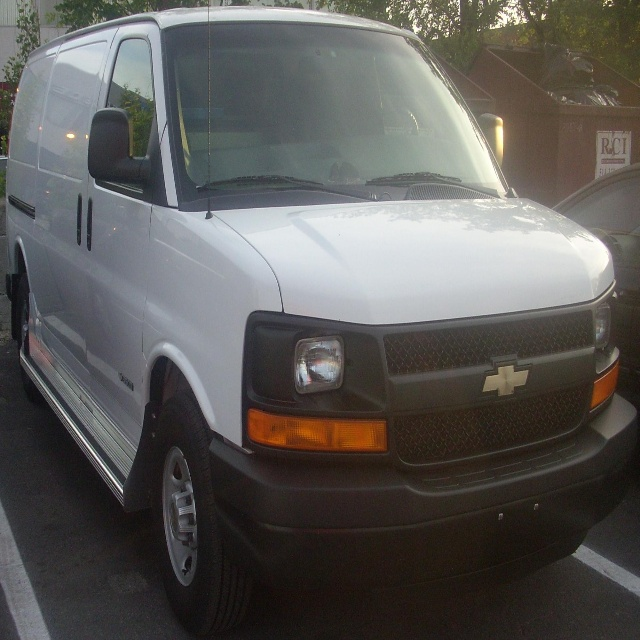Van: (6, 6, 640, 640)
